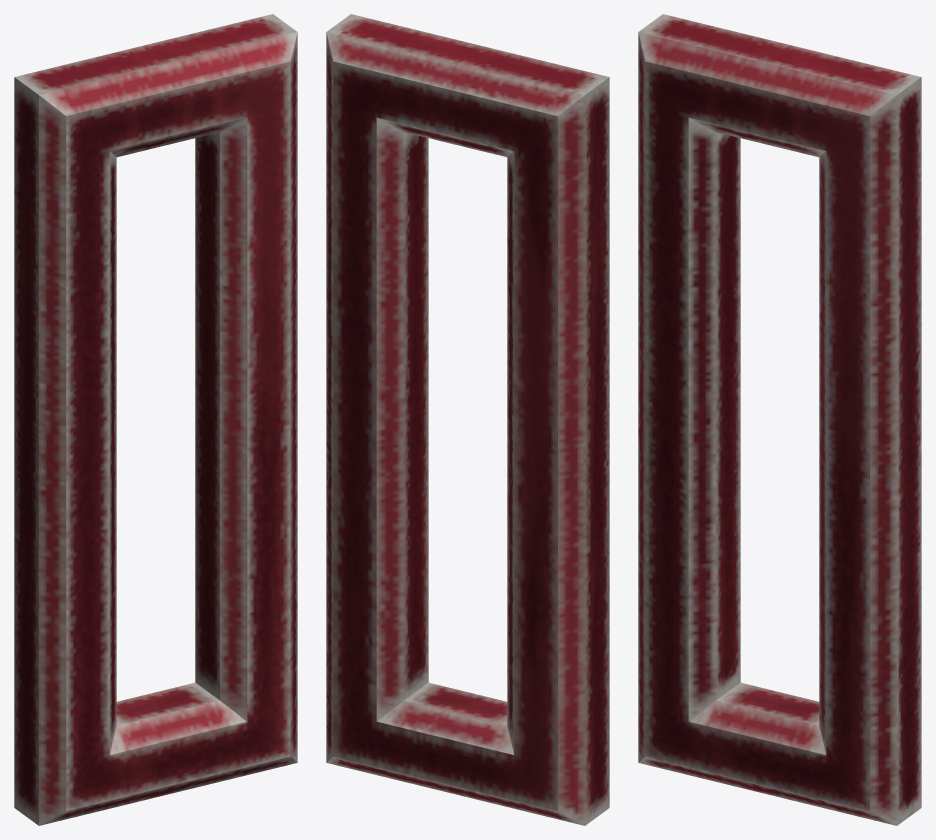
File: Shacklewound_ChainLink.fbx
The picture shows the model from 3 angles, left to right: view 1: azimuth 30°, elevation 25°; view 2: azimuth 150°, elevation 25°; view 3: azimuth 330°, elevation 25°; orthographic projection.
Parts seen in each view (by area): view 1: Shacklewound_ChainLink; view 2: Shacklewound_ChainLink; view 3: Shacklewound_ChainLink.
Boxes of the visible parts, x1,y1,x2,y2 form: Shacklewound_ChainLink: [14, 14, 297, 825]; Shacklewound_ChainLink: [326, 14, 609, 825]; Shacklewound_ChainLink: [638, 14, 921, 825].
Size of the model in its own units: 0.1 by 0.27 by 0.03.
